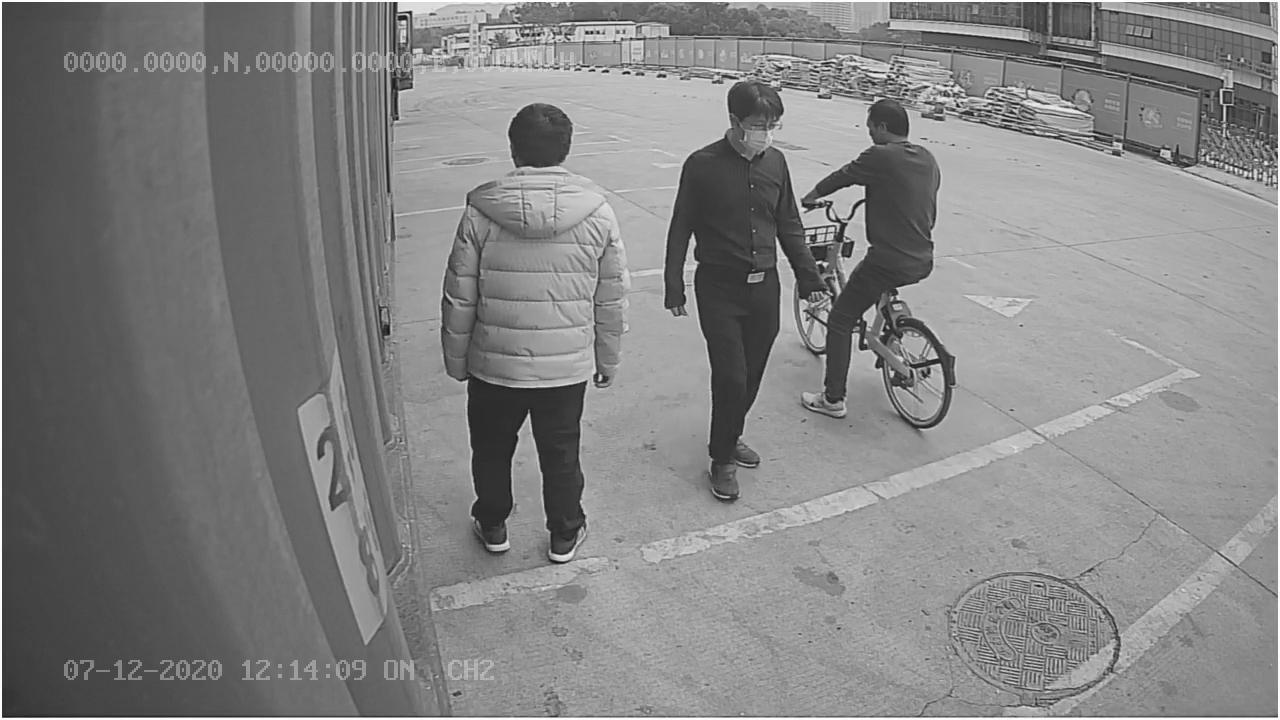person: (441, 97, 633, 561), (663, 74, 825, 504)
